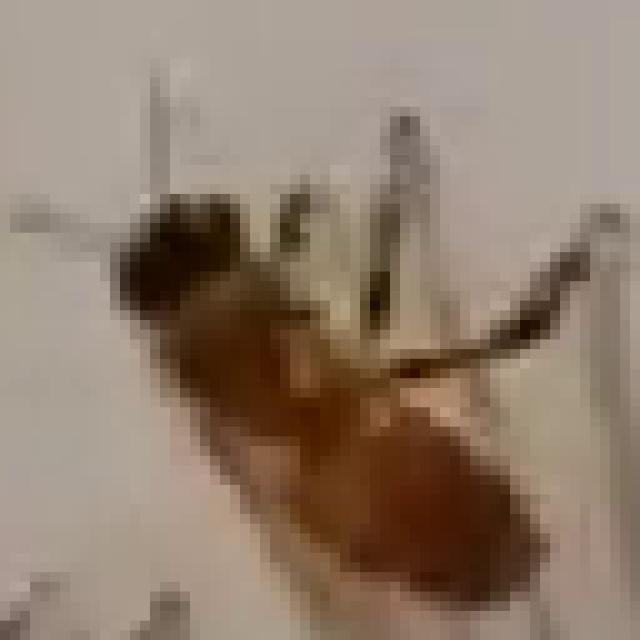honeybee: (87, 147, 588, 640)
